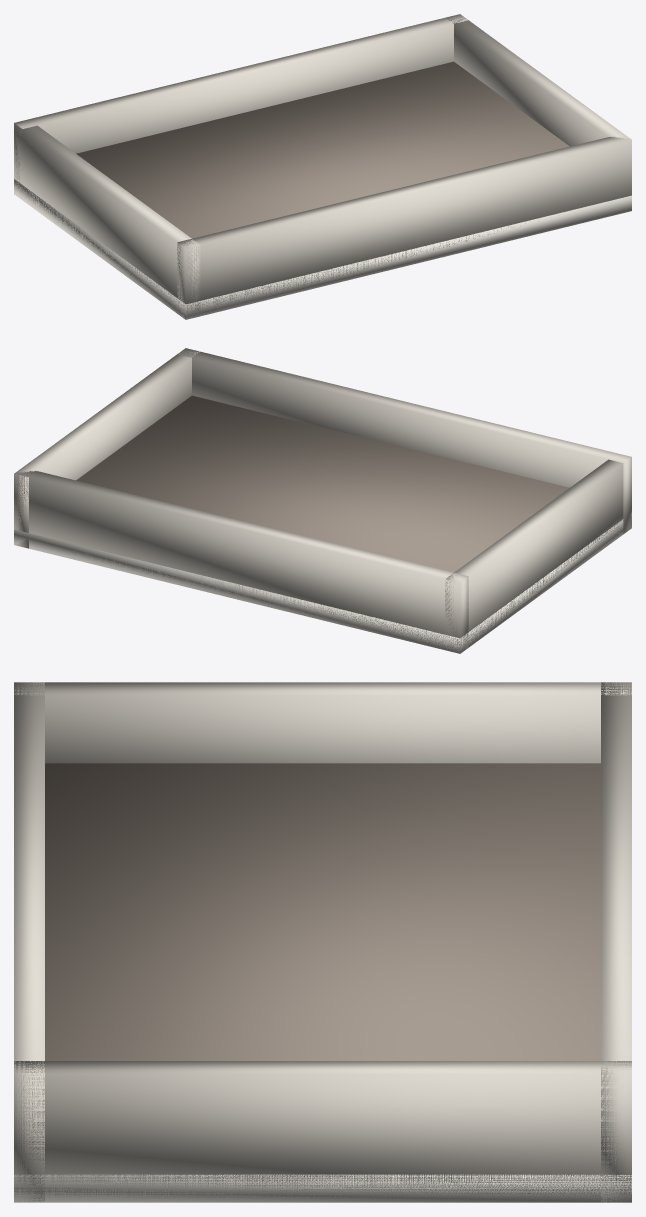
The model's file is container_tray_s.glb.
3 renders of one model, top to bottom at view 1: azimuth 30°, elevation 25°; view 2: azimuth 150°, elevation 25°; view 3: azimuth 270°, elevation 25°, orthographic. The views are drawn at different scales.
Parts seen in each view (by area): view 1: soil, wall01, wall0-1, wall-10, floor, wall10; view 2: soil, wall0-1, wall01, wall-10, floor, wall10; view 3: soil, wall10, wall-10, floor, wall01, wall0-1.
Boxes of the visible parts, bbox=[...] form: soil: bbox=[76, 61, 569, 238]; wall01: bbox=[177, 136, 631, 319]; wall0-1: bbox=[14, 14, 467, 194]; wall-10: bbox=[14, 123, 200, 318]; floor: bbox=[14, 179, 631, 319]; wall10: bbox=[446, 14, 631, 146]; soil: bbox=[76, 395, 569, 572]; wall0-1: bbox=[14, 471, 468, 653]; wall01: bbox=[177, 348, 631, 534]; wall-10: bbox=[445, 459, 623, 653]; floor: bbox=[14, 513, 631, 653]; wall10: bbox=[14, 349, 199, 548]; soil: bbox=[45, 763, 600, 1060]; wall10: bbox=[14, 1061, 631, 1202]; wall-10: bbox=[14, 682, 631, 763]; floor: bbox=[14, 1174, 631, 1202]; wall01: bbox=[14, 682, 44, 1202]; wall0-1: bbox=[601, 682, 631, 1202].
Size of the model in its own units: 0.36 by 0.055 by 0.24.
